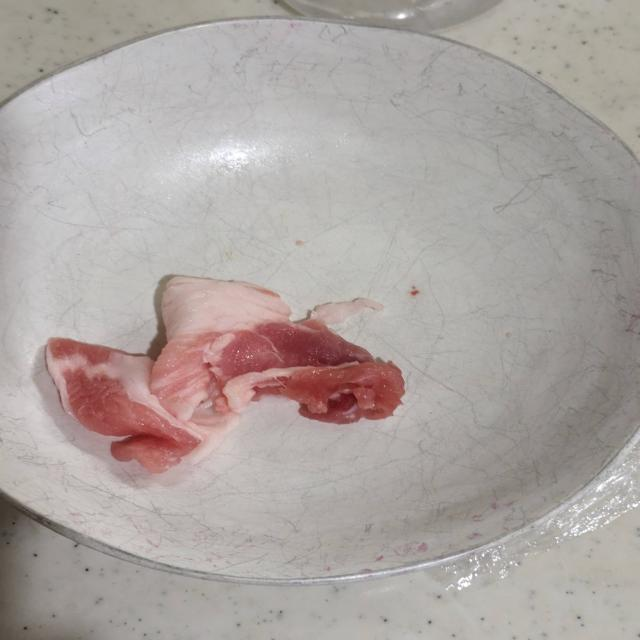NG raw pork,: (32, 267, 429, 489)
